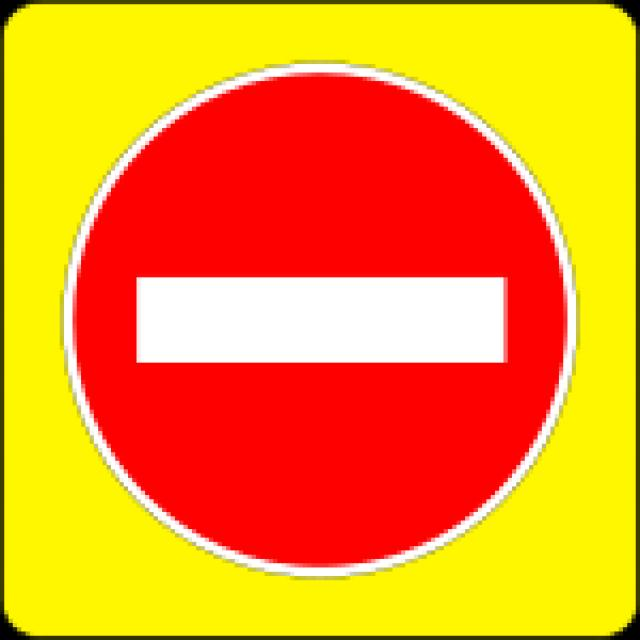forbidden: (73, 58, 571, 582)
